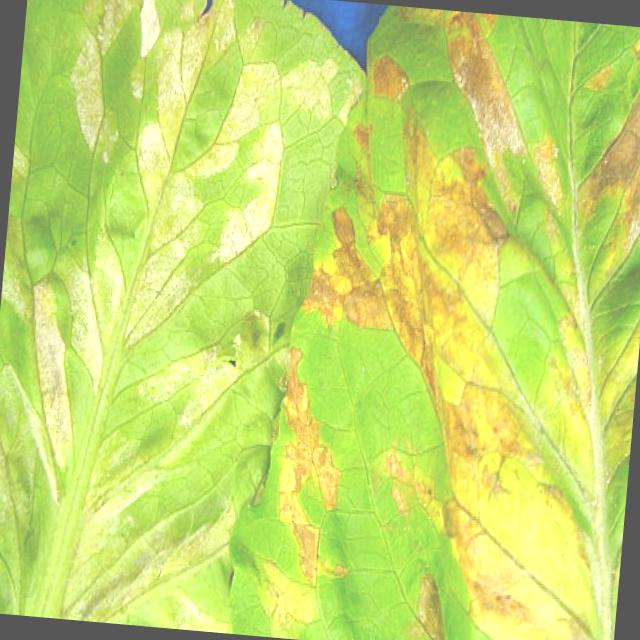Downy_mildew_on_lettuce: (321, 53, 640, 640)
Powdery_mildew_on_lettuce: (0, 0, 302, 529)
